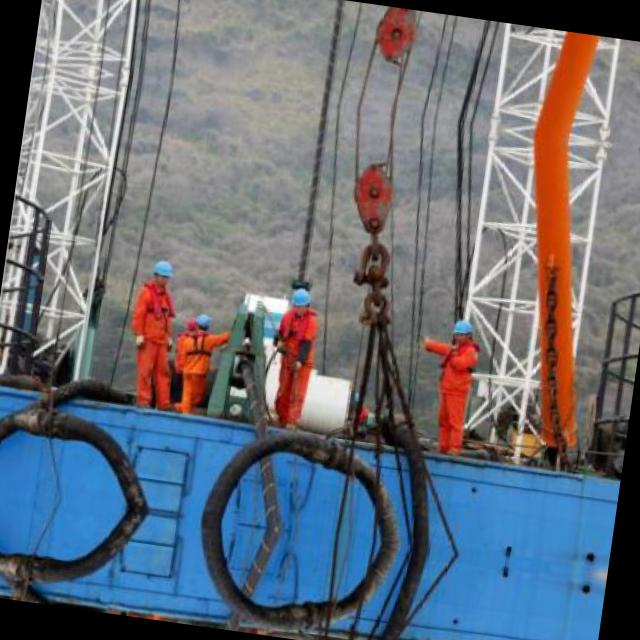helmet: (445, 312, 475, 345), (286, 282, 313, 318), (148, 255, 173, 288), (193, 310, 213, 334)
